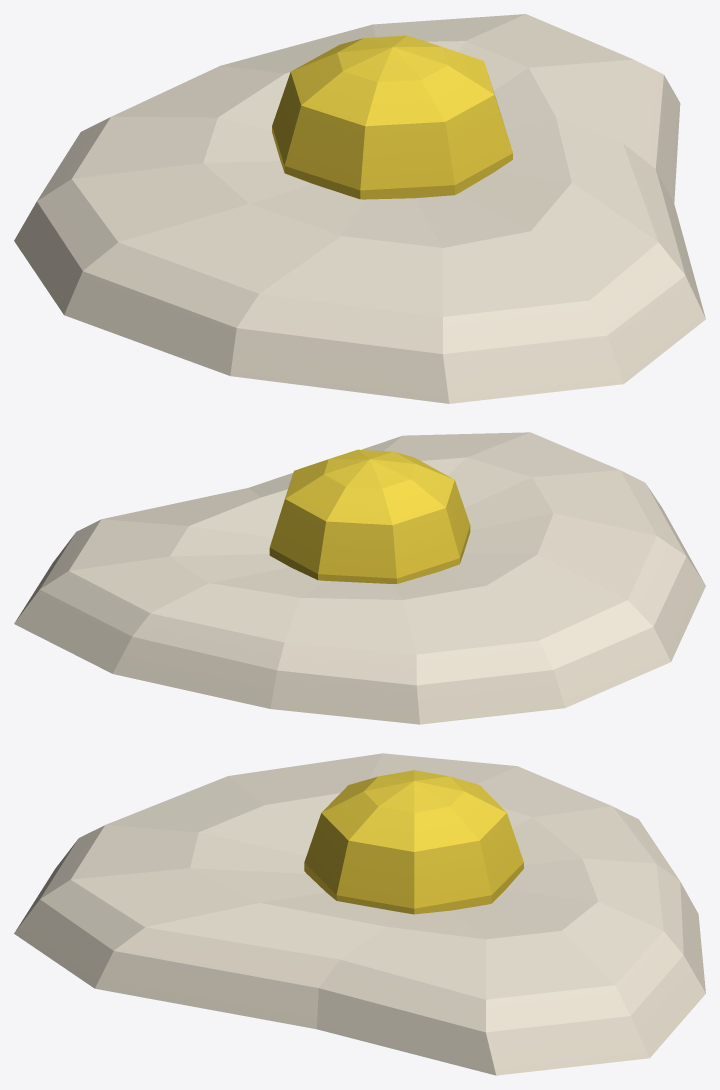
The model's file is egg_5.fbx.
3 renders of one model, top to bottom at view 1: azimuth 30°, elevation 25°; view 2: azimuth 150°, elevation 25°; view 3: azimuth 270°, elevation 25°, orthographic. The views are drawn at different scales.
Visible parts, largest first — view 1: egg_5; view 2: egg_5; view 3: egg_5.
Part boxes in pixels (<box>): egg_5: <box>14,14,705,403</box>; egg_5: <box>14,432,705,724</box>; egg_5: <box>14,753,705,1075</box>.
Size of the model in its own units: 0.1136 by 0.0274 by 0.1138.
